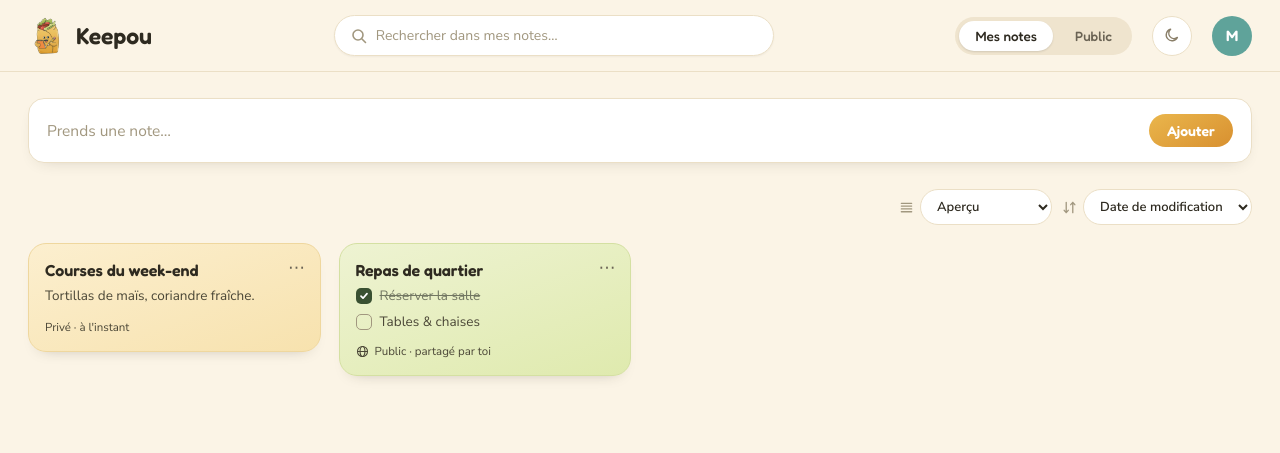
Test: BoardPage › archives a note and removes it from the board (optimistic)
Expected: the button "Courses du week-end" is shown, [28,243,320,352]
What coordinates should you click on to do the following:
click the button named "Actions pour Courses du week-end"
I would click on:
 (296, 267)
Its box is [284,254,310,280].
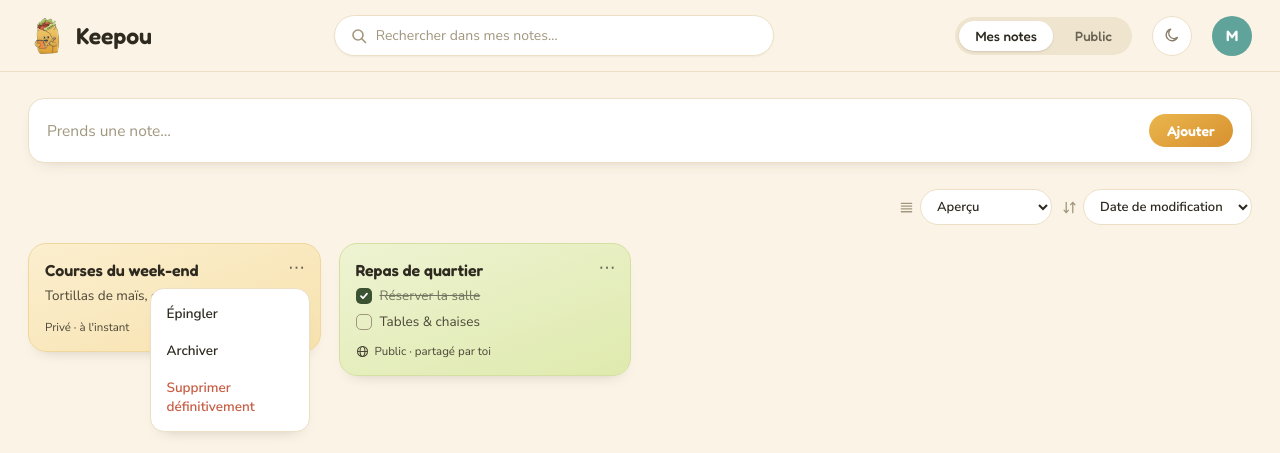
What coordinates should you click on to do the following:
click the menu item "Archiver"
I would click on:
 (230, 350)
Its box is [156,332,302,369].
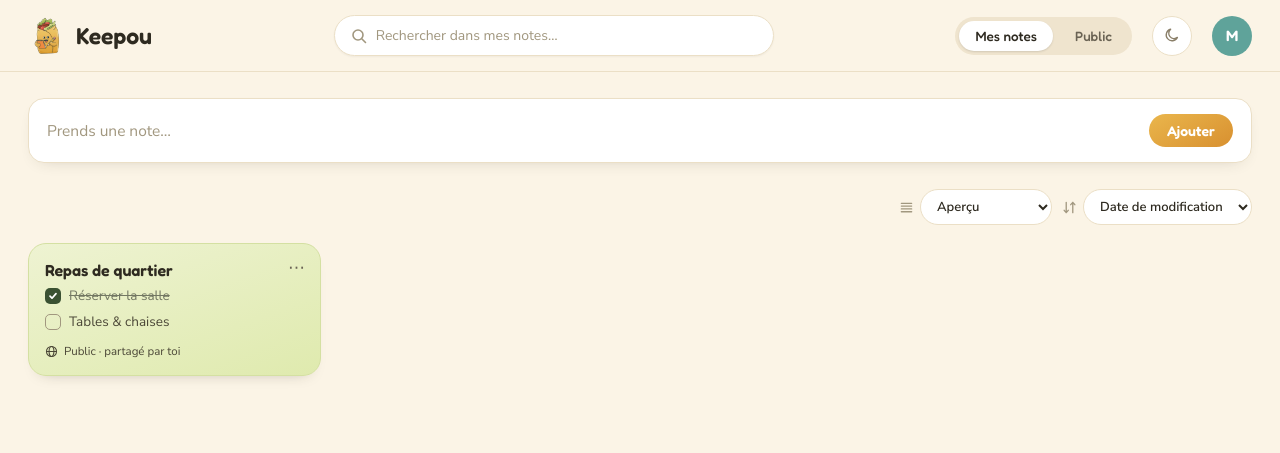
Now the button "Courses du week-end" is gone
